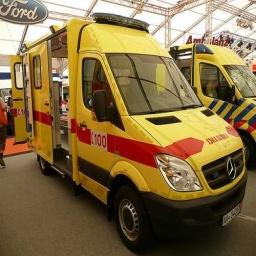ambulance: (11, 13, 246, 251), (170, 43, 255, 166)
